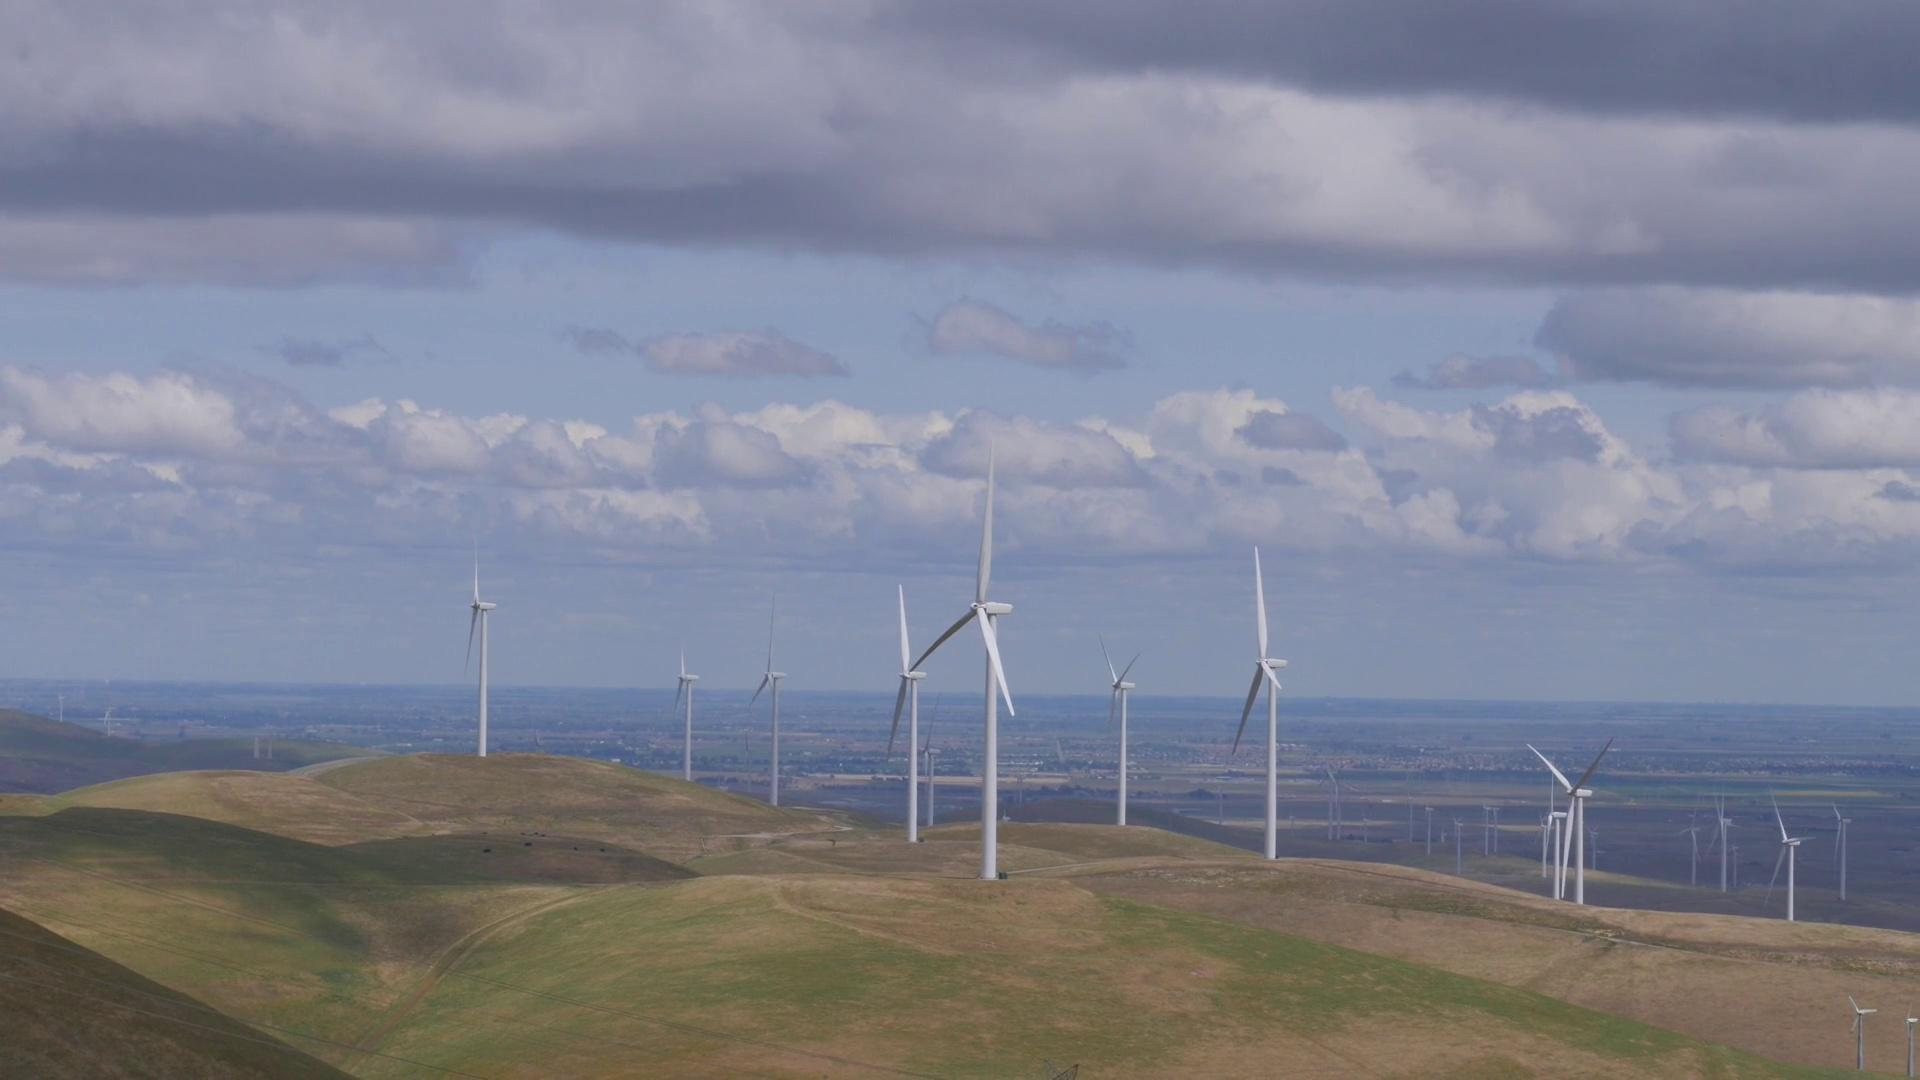turbine: (898, 438, 1072, 885), (1196, 530, 1317, 870), (840, 556, 951, 855), (1491, 731, 1635, 913), (429, 531, 516, 778), (624, 597, 725, 796), (1076, 611, 1150, 858), (728, 608, 799, 806), (1505, 758, 1582, 901), (1738, 793, 1815, 924), (1797, 786, 1866, 913), (1687, 793, 1742, 927), (1652, 785, 1709, 898)
